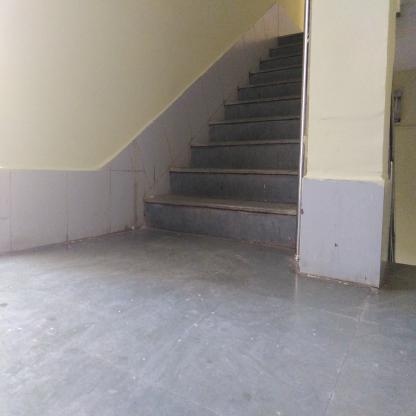stairs: (224, 96, 295, 253)
